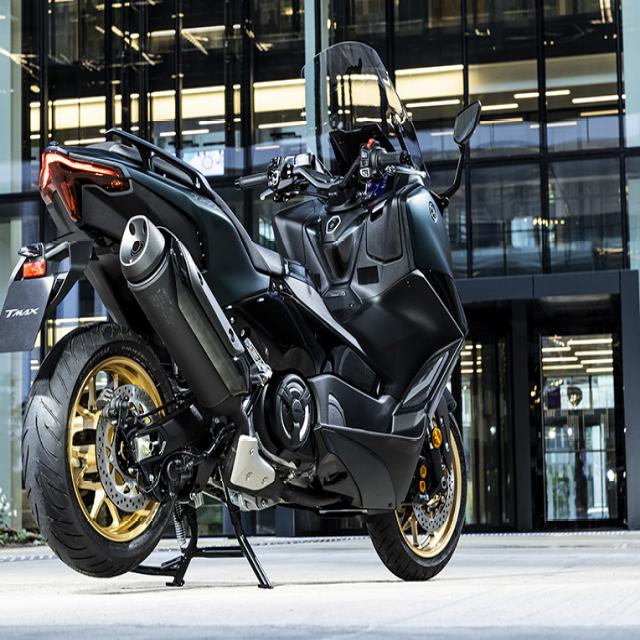Bike: (0, 44, 481, 586)
